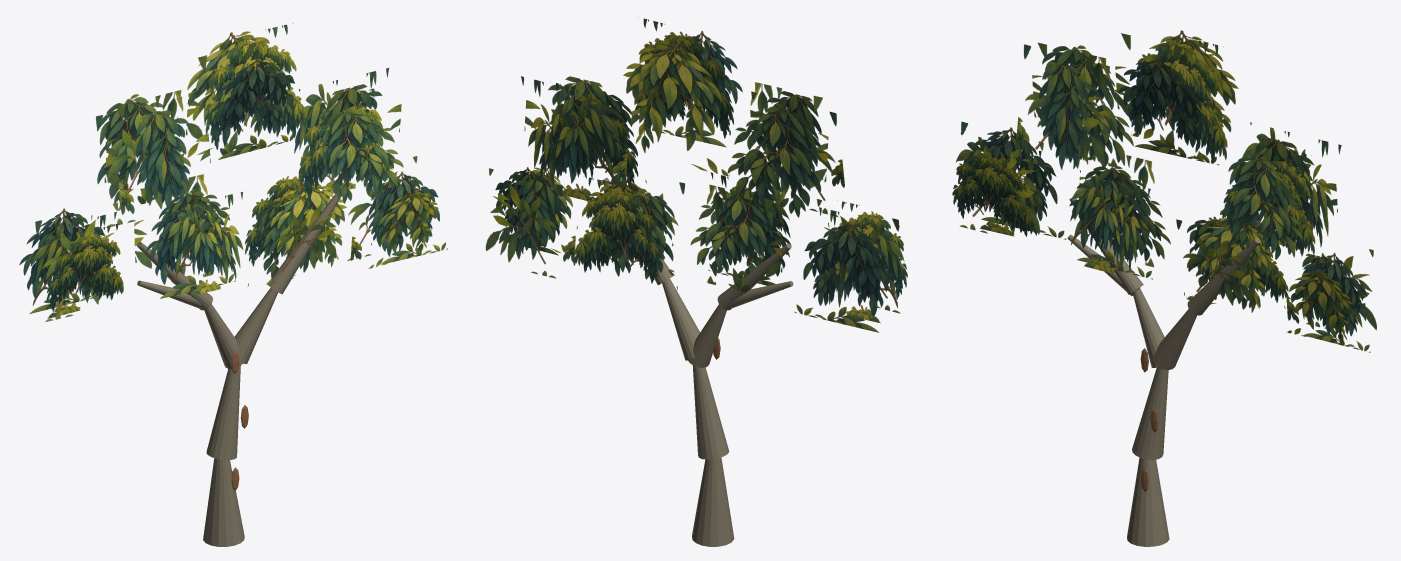
The model's file is TREE_EUCALYPTUS_001_LOD_GAMEPLAY.glb.
3 views of the same model, side by side, from view 1: azimuth 30°, elevation 25°; view 2: azimuth 150°, elevation 25°; view 3: azimuth 330°, elevation 25° (orthographic). The views are drawn at different scales.
Parts seen in each view (by area): view 1: GG_EUC_FRONT_ISLAND_03_CLUSTER_00, GG_EUC_FRONT_ISLAND_02_CLUSTER_00, GG_EUC_FRONT_ISLAND_01_CLUSTER_00, GG_EUC_BODY_ISLAND_02_CLUSTER_01, GG_EUC_FRONT_ISLAND_05_CLUSTER_00, GG_EUC_FRONT_ISLAND_00_CLUSTER_00, GG_EUC_REAR_ISLAND_01_CLUSTER_00, GG_EUC_V2_BRANCH_00, GG_EUC_BODY_ISLAND_06_CLUSTER_01, GG_EUC_BODY_ISLAND_05_CLUSTER_00, GG_EUC_FRONT_ISLAND_04_CLUSTER_00, GG_EUC_BODY_ISLAND_03_CLUSTER_00 (+22 smaller); view 2: GG_EUC_REAR_ISLAND_02_CLUSTER_00, GG_EUC_REAR_ISLAND_01_CLUSTER_00, GG_EUC_REAR_ISLAND_03_CLUSTER_00, GG_EUC_REAR_ISLAND_00_CLUSTER_00, GG_EUC_REAR_ISLAND_06_CLUSTER_00, GG_EUC_BODY_ISLAND_05_CLUSTER_01, GG_EUC_V2_BRANCH_00, GG_EUC_BODY_ISLAND_02_CLUSTER_01, GG_EUC_BODY_ISLAND_04_CLUSTER_00, GG_EUC_BODY_ISLAND_00_CLUSTER_00, GG_EUC_BODY_ISLAND_03_CLUSTER_01, GG_EUC_V2_BRANCH_01 (+18 smaller); view 3: GG_EUC_FRONT_ISLAND_03_CLUSTER_00, GG_EUC_FRONT_ISLAND_02_CLUSTER_00, GG_EUC_FRONT_ISLAND_01_CLUSTER_00, GG_EUC_BODY_ISLAND_02_CLUSTER_01, GG_EUC_FRONT_ISLAND_00_CLUSTER_00, GG_EUC_FRONT_ISLAND_05_CLUSTER_00, GG_EUC_REAR_ISLAND_01_CLUSTER_00, GG_EUC_BODY_ISLAND_06_CLUSTER_01, GG_EUC_V2_BRANCH_00, GG_EUC_FRONT_ISLAND_04_CLUSTER_00, GG_EUC_REAR_ISLAND_00_CLUSTER_00, GG_EUC_BODY_ISLAND_03_CLUSTER_00 (+21 smaller).
Boxes of the visible parts, <box> form: GG_EUC_FRONT_ISLAND_03_CLUSTER_00: <box>317,107,403,211</box>; GG_EUC_FRONT_ISLAND_02_CLUSTER_00: <box>212,57,297,159</box>; GG_EUC_FRONT_ISLAND_01_CLUSTER_00: <box>119,110,210,214</box>; GG_EUC_BODY_ISLAND_02_CLUSTER_01: <box>204,23,307,149</box>; GG_EUC_FRONT_ISLAND_05_CLUSTER_00: <box>167,192,243,295</box>; GG_EUC_FRONT_ISLAND_00_CLUSTER_00: <box>46,222,123,311</box>; GG_EUC_REAR_ISLAND_01_CLUSTER_00: <box>91,94,190,219</box>; GG_EUC_V2_BRANCH_00: <box>203,458,244,546</box>; GG_EUC_BODY_ISLAND_06_CLUSTER_01: <box>264,181,346,284</box>; GG_EUC_BODY_ISLAND_05_CLUSTER_00: <box>146,202,235,298</box>; GG_EUC_FRONT_ISLAND_04_CLUSTER_00: <box>368,190,438,268</box>; GG_EUC_BODY_ISLAND_03_CLUSTER_00: <box>298,87,392,199</box>; GG_EUC_REAR_ISLAND_02_CLUSTER_00: <box>623,41,730,176</box>; GG_EUC_REAR_ISLAND_01_CLUSTER_00: <box>727,103,829,227</box>; GG_EUC_REAR_ISLAND_03_CLUSTER_00: <box>521,76,619,200</box>; GG_EUC_REAR_ISLAND_00_CLUSTER_00: <box>794,221,892,332</box>; GG_EUC_REAR_ISLAND_06_CLUSTER_00: <box>573,177,661,283</box>; GG_EUC_BODY_ISLAND_05_CLUSTER_01: <box>690,186,779,290</box>; GG_EUC_V2_BRANCH_00: <box>692,457,734,546</box>; GG_EUC_BODY_ISLAND_02_CLUSTER_01: <box>634,18,733,138</box>; GG_EUC_BODY_ISLAND_04_CLUSTER_00: <box>497,174,575,262</box>; GG_EUC_BODY_ISLAND_00_CLUSTER_00: <box>819,207,904,323</box>; GG_EUC_BODY_ISLAND_03_CLUSTER_01: <box>524,76,627,187</box>; GG_EUC_V2_BRANCH_01: <box>692,365,729,459</box>; GG_EUC_FRONT_ISLAND_03_CLUSTER_00: <box>1215,156,1303,259</box>; GG_EUC_FRONT_ISLAND_02_CLUSTER_00: <box>1118,57,1218,165</box>; GG_EUC_FRONT_ISLAND_01_CLUSTER_00: <box>1015,62,1110,169</box>; GG_EUC_BODY_ISLAND_02_CLUSTER_01: <box>1127,39,1227,161</box>; GG_EUC_FRONT_ISLAND_00_CLUSTER_00: <box>952,153,1036,236</box>; GG_EUC_FRONT_ISLAND_05_CLUSTER_00: <box>1070,170,1150,273</box>; GG_EUC_REAR_ISLAND_01_CLUSTER_00: <box>1031,45,1133,166</box>; GG_EUC_BODY_ISLAND_06_CLUSTER_01: <box>1186,218,1273,312</box>; GG_EUC_V2_BRANCH_00: <box>1127,457,1169,546</box>; GG_EUC_FRONT_ISLAND_04_CLUSTER_00: <box>1284,269,1352,342</box>; GG_EUC_REAR_ISLAND_00_CLUSTER_00: <box>975,127,1066,239</box>; GG_EUC_BODY_ISLAND_03_CLUSTER_00: <box>1223,149,1315,256</box>.
Size of the model in its own units: 6.18 by 7.02 by 0.8485.
Materials: 3 (1 with a texture image).
